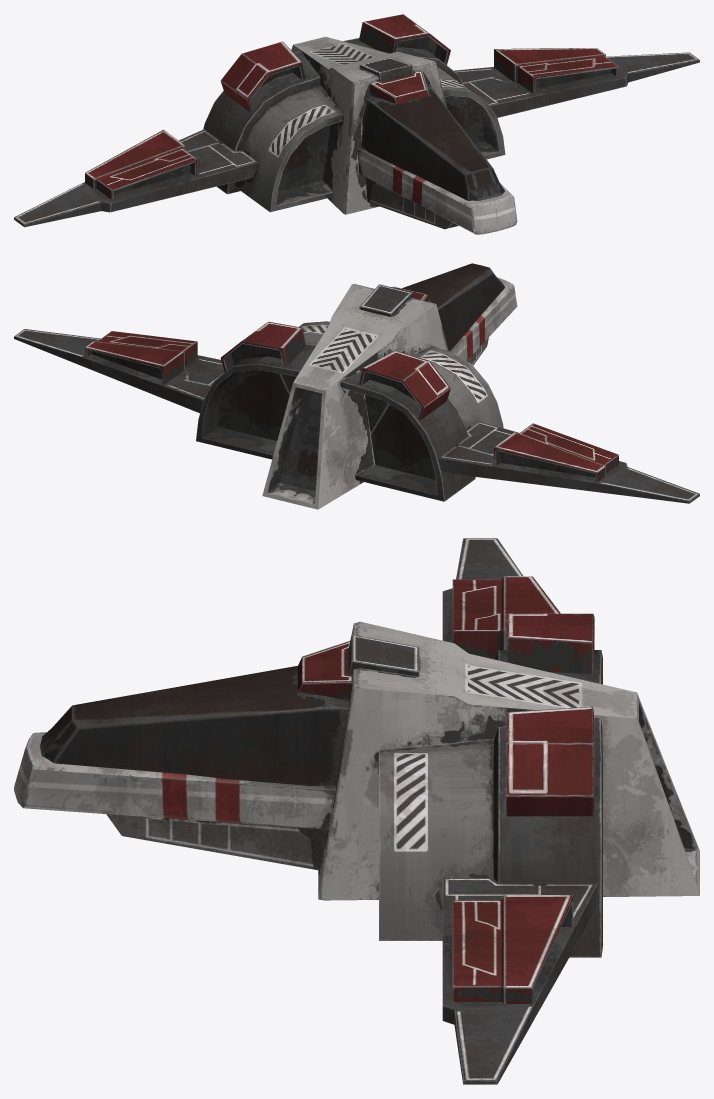
File: bob_red.glb
3 views of the same model, one above another, from view 1: azimuth 30°, elevation 25°; view 2: azimuth 150°, elevation 25°; view 3: azimuth 270°, elevation 25° (orthographic). The views are drawn at different scales.
Parts seen in each view (by area): view 1: bob; view 2: bob; view 3: bob.
Boxes of the visible parts, x1,y1,x2,y2 form: bob: (14,14,699,234); bob: (14,263,699,509); bob: (14,538,699,1084).
Bounding box in the file's own units: 10.5 × 2.04 × 5.61.
1 material, 1 textured.
